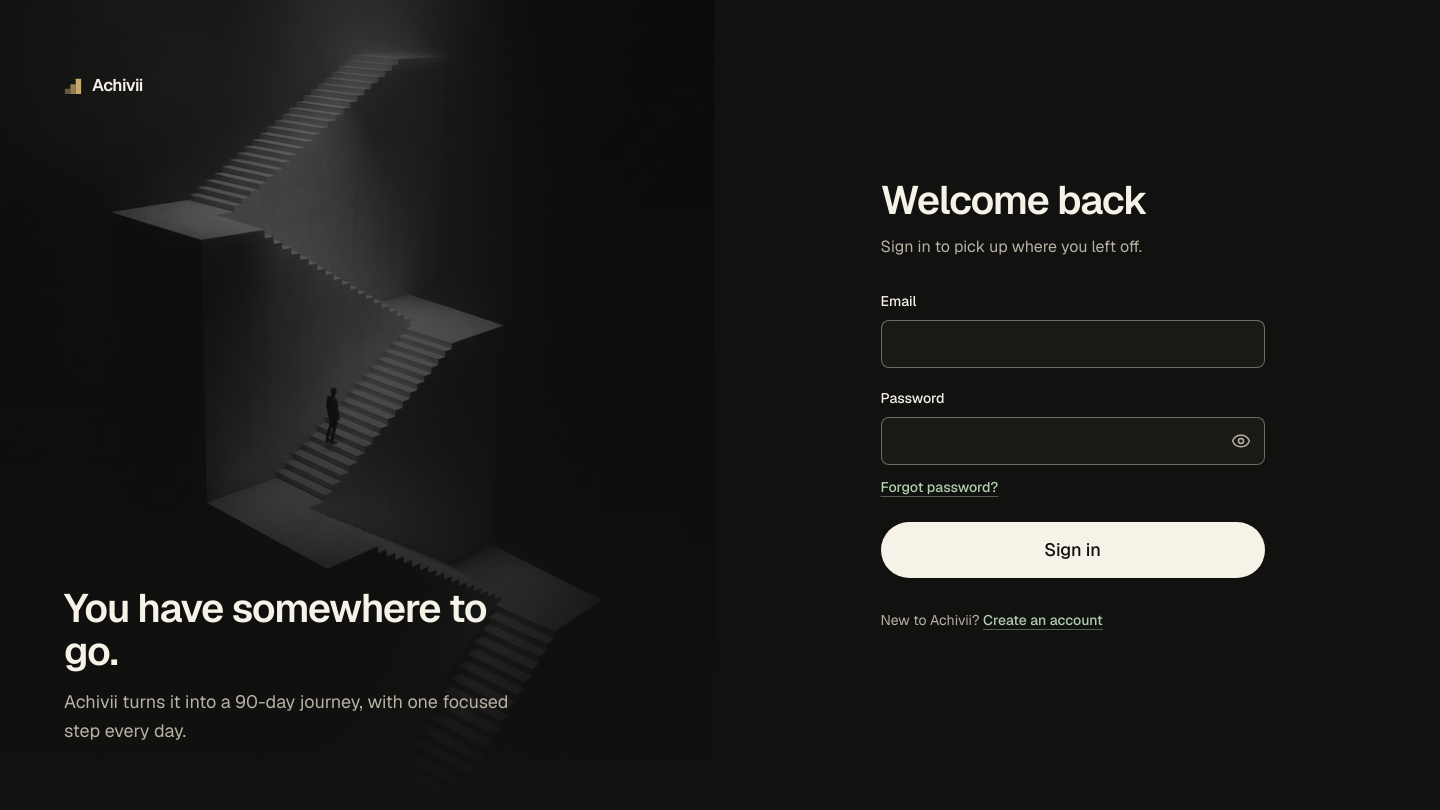
it: email confirmation (B-15) › signing in before confirming says what to do
Type "mo@example.com" into the field labelled "Email" at (1072, 344), box 880,320 -> 1264,368
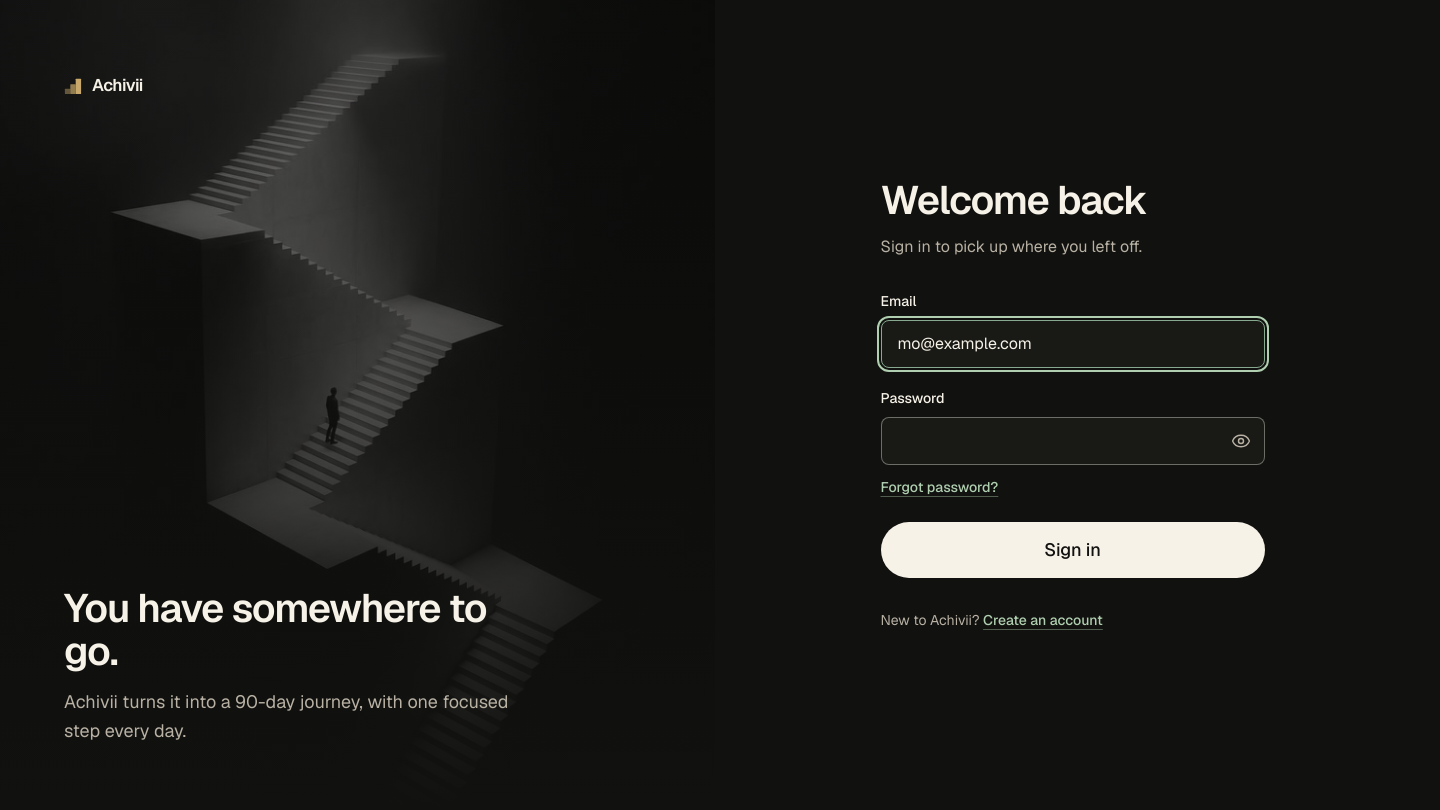
Type "secret-pass" into the password field labelled "Password" at (1072, 441), box 880,417 -> 1264,465
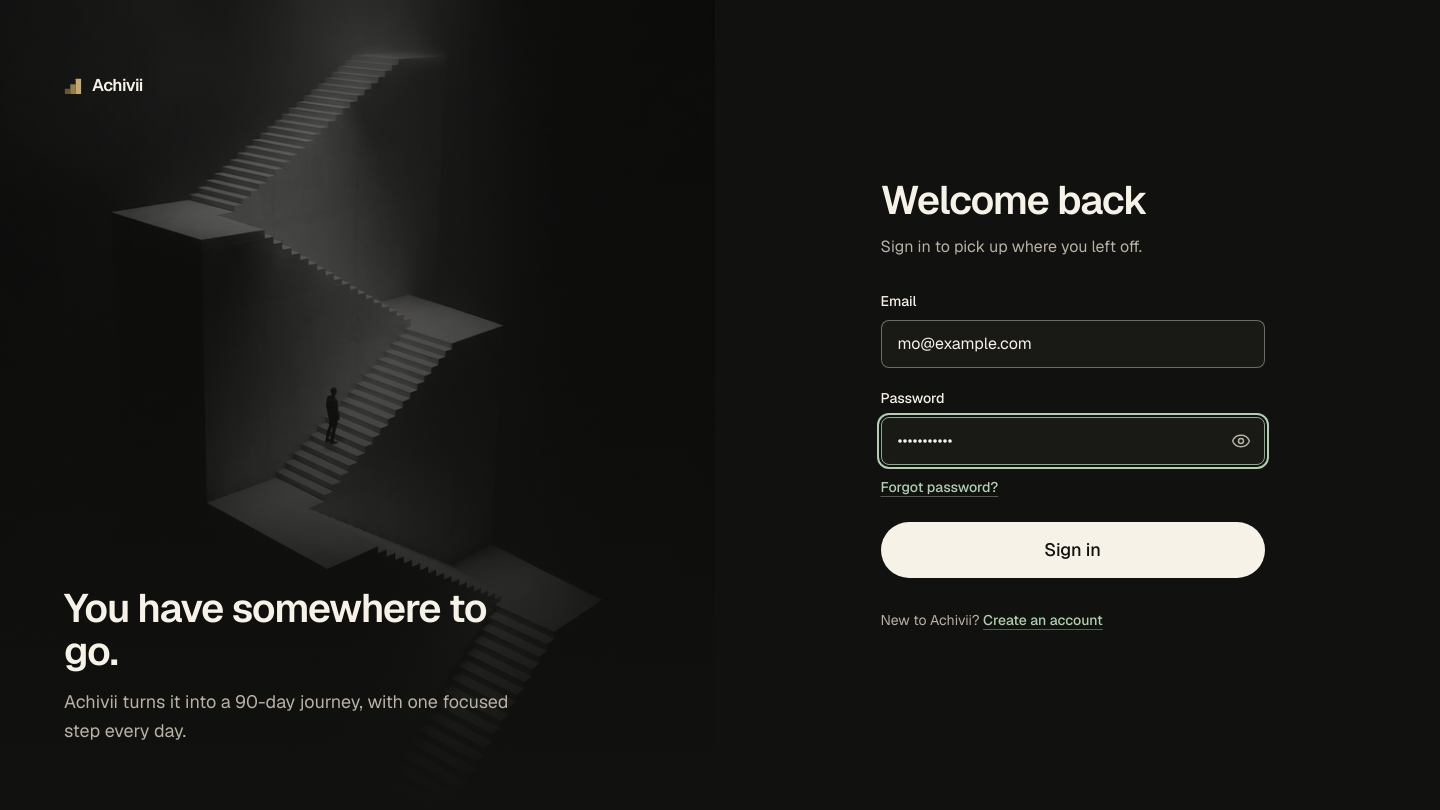
Click the button "Sign in" at (1072, 550), box 880,522 -> 1264,578
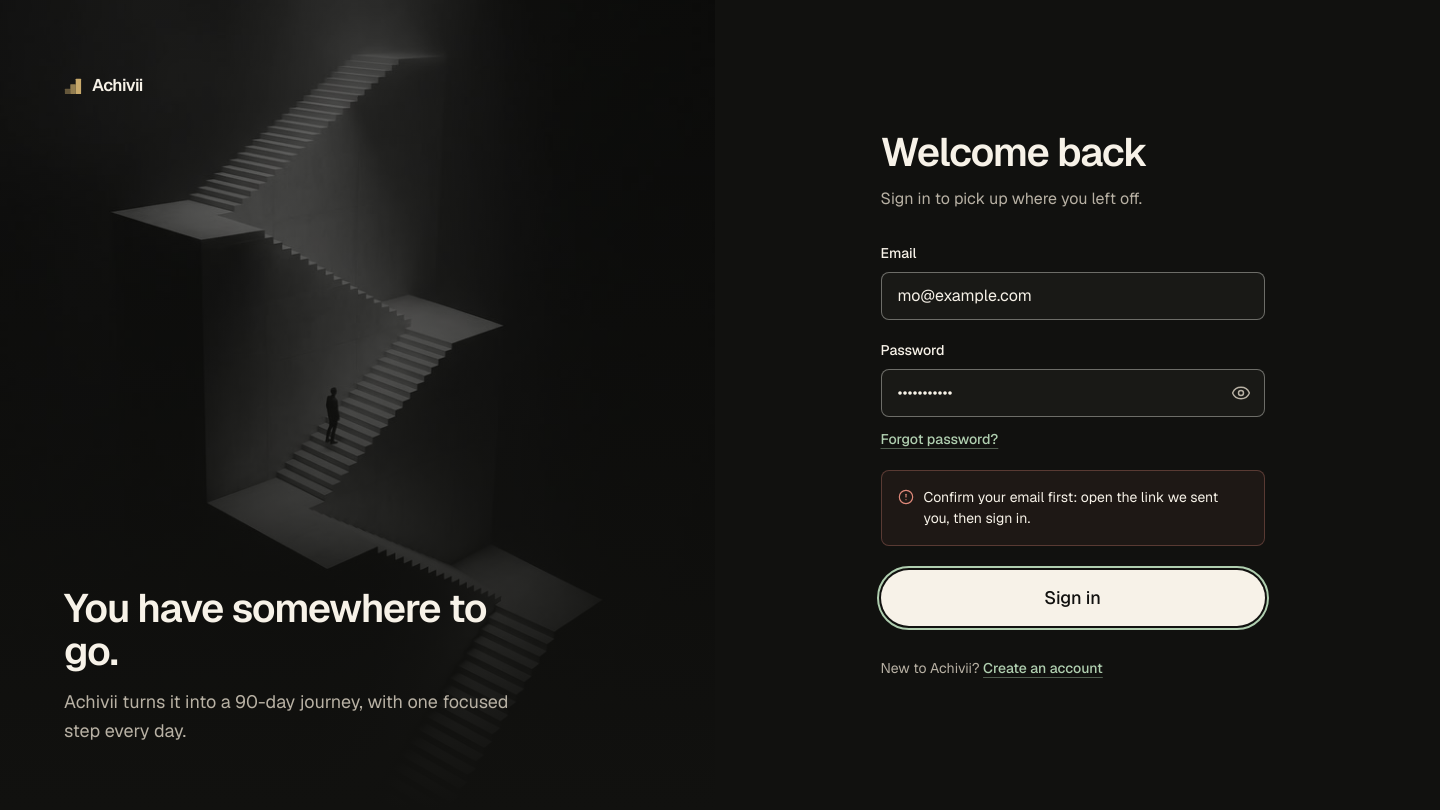
Expected: the message reads "Confirm your email first: open the link we sent you, then sign in.", 924,488 -> 1218,527
